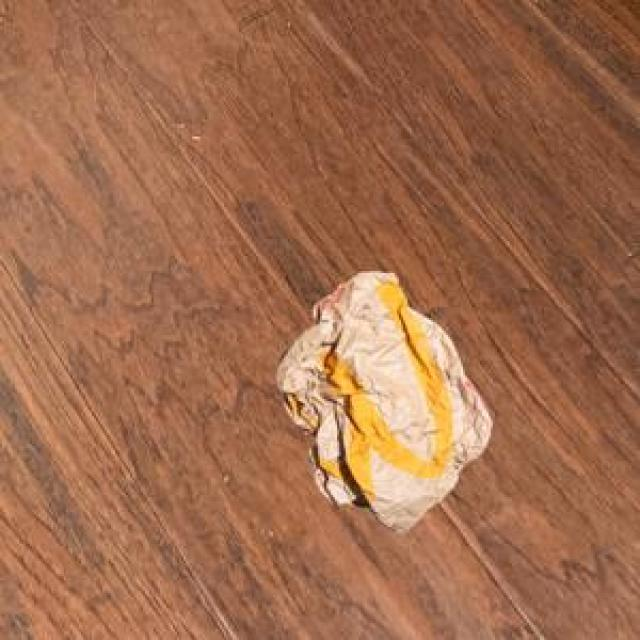paper: (273, 269, 486, 529)
